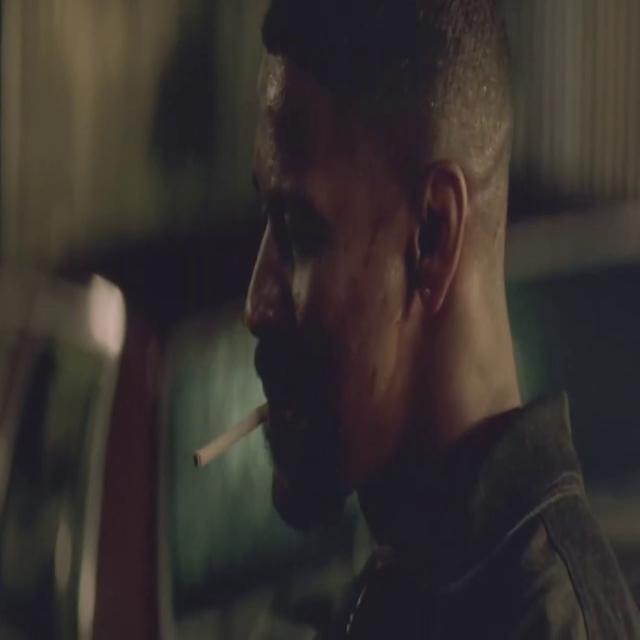Smooking: (182, 384, 270, 481)
